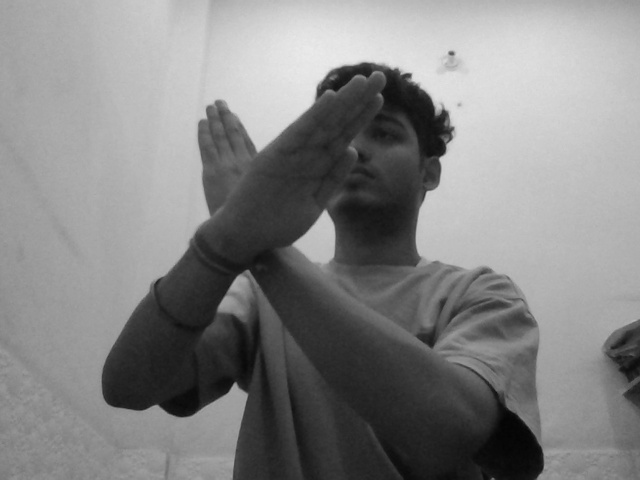No: (153, 67, 394, 283)
